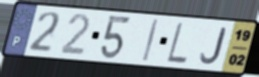2: (57, 12, 91, 56), (26, 11, 61, 53)
5: (99, 14, 133, 61)
I: (141, 17, 160, 63)
J: (198, 26, 228, 66)
L: (165, 21, 189, 66)
